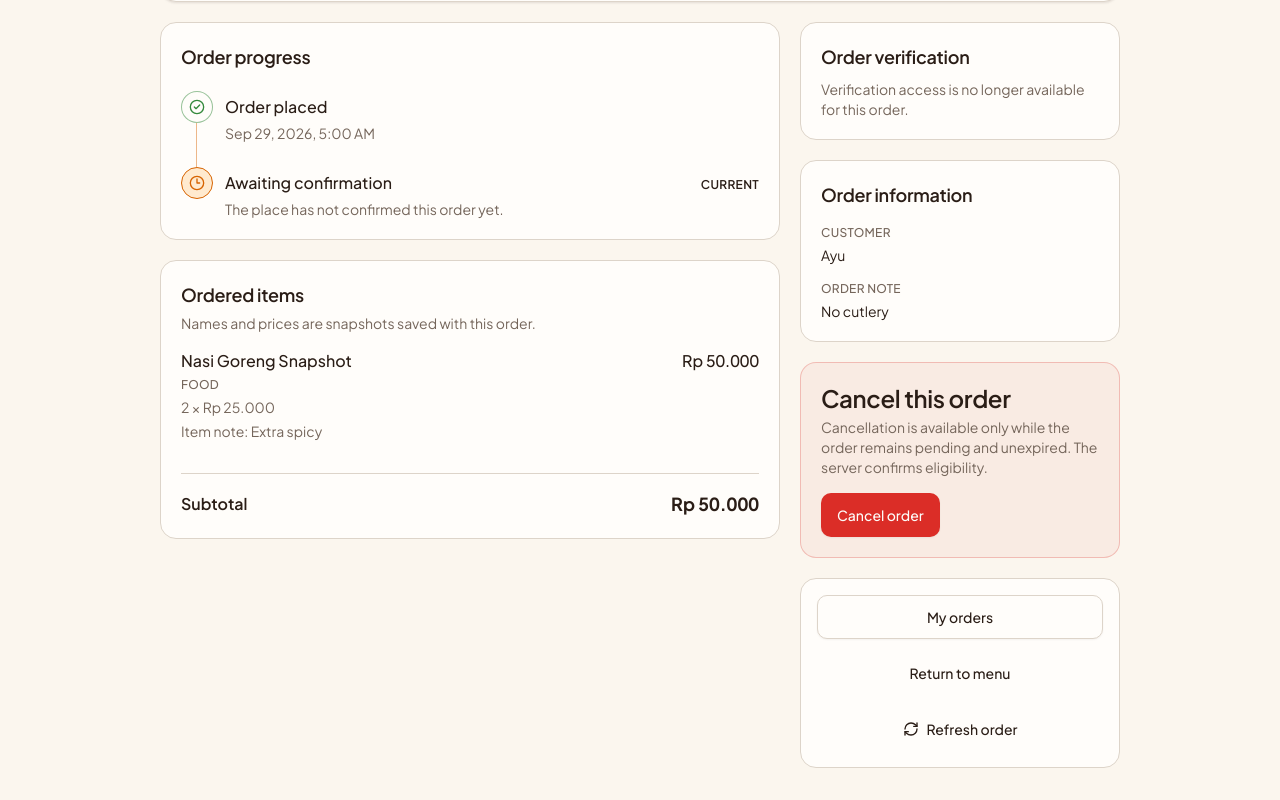
Test: customer order detail page › offers sign-in recovery when the session expires during cancellation
(page scrolled)
What coordinates should you click on to do the following:
click the button "Cancel order"
I would click on:
 (880, 515)
Its box is x1=821 y1=493 x2=940 y2=537.
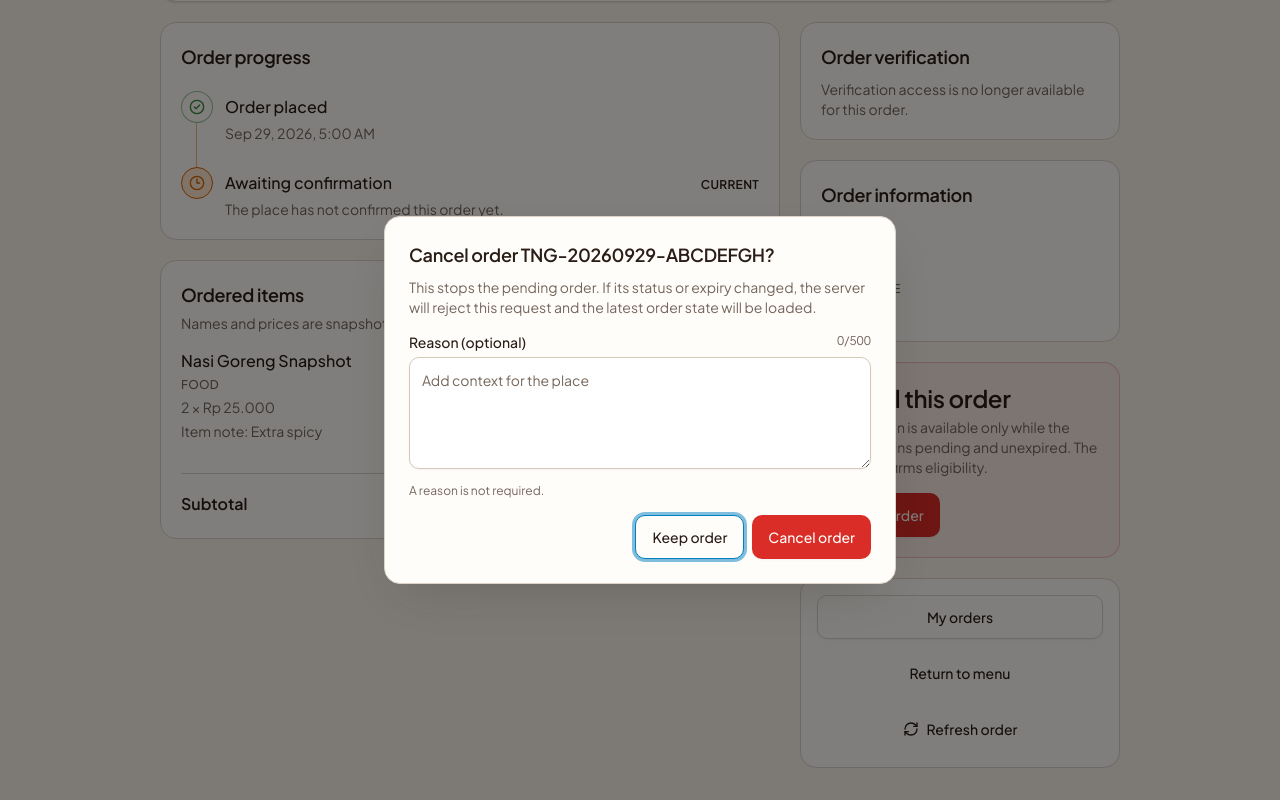
What coordinates should you click on to do the following:
click the button "Cancel order"
I would click on:
 (812, 537)
Its box is x1=752 y1=515 x2=871 y2=559.
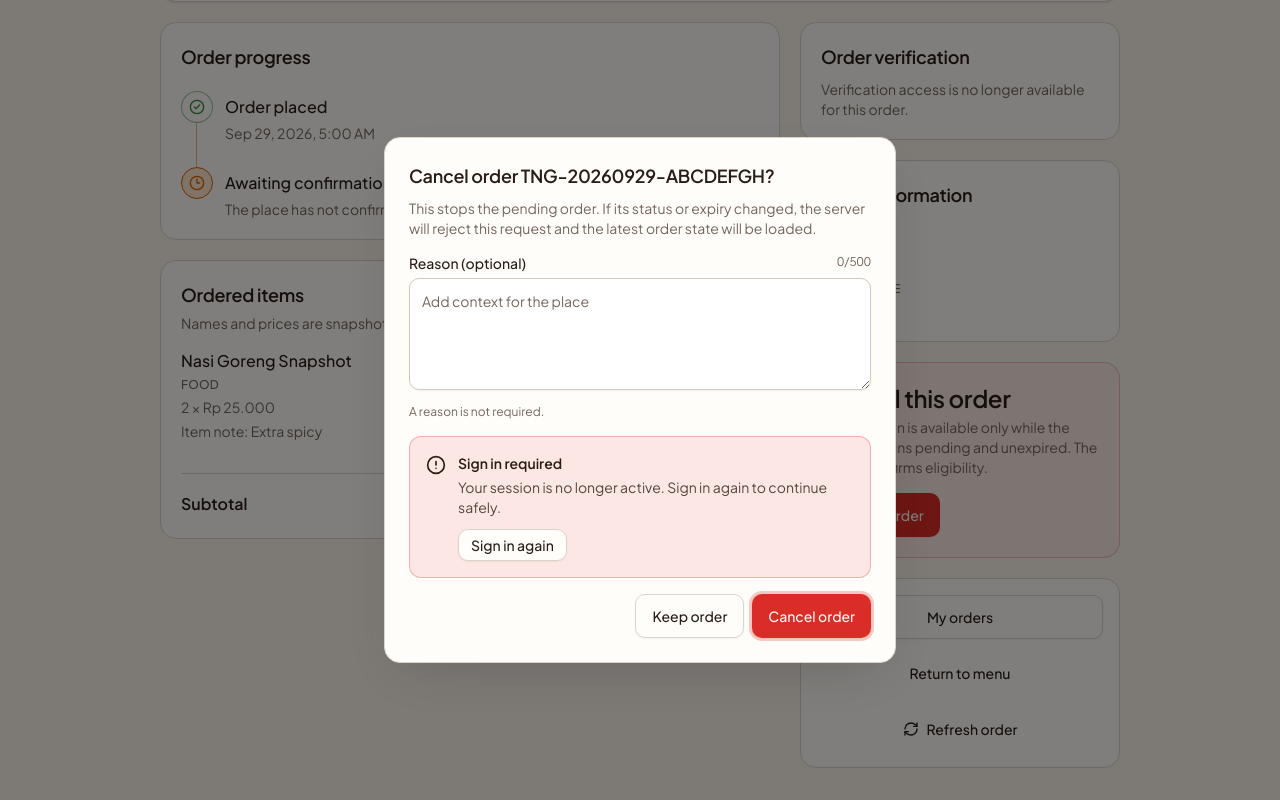
Expected: the text "Sign in required" is shown, x1=458 y1=454 x2=562 y2=472
